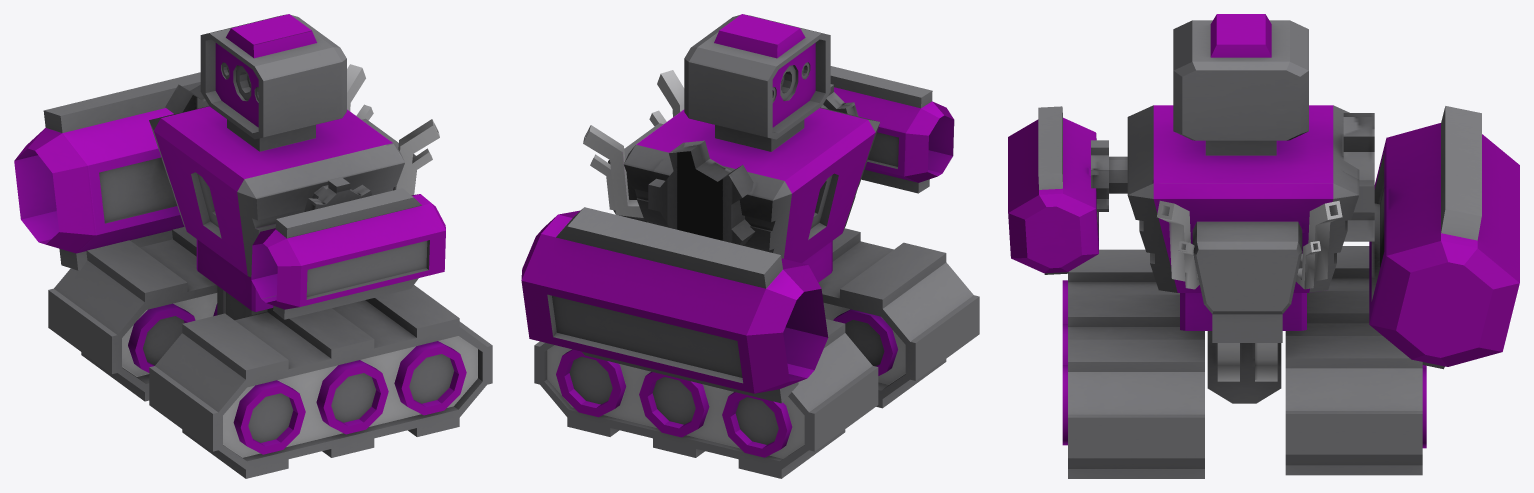
File: Enemy2_Die5.obj
3 renders of one model, left to right at view 1: azimuth 30°, elevation 25°; view 2: azimuth 150°, elevation 25°; view 3: azimuth 270°, elevation 25°, orthographic. The views are drawn at different scales.
Parts seen in each view (by area): view 1: Object006, Object013, Object011, Object014, Object012, Object010, Object008, Object009; view 2: Object006, Object011, Object013, Object012, Object014, Object009, Object010, Object008; view 3: Object006, Object011, Object013, Object012, Object010, Object014, Object009, Object008.
Boxes of the visible parts, x1,y1,x2,y2 form: Object006: (48,227,492,478); Object013: (149,106,404,320); Object011: (14,72,200,270); Object014: (251,188,445,319); Object012: (200,14,346,151); Object010: (347,64,439,195); Object008: (304,177,372,211); Object009: (165,84,208,113); Object006: (534,228,979,478); Object011: (521,207,828,403); Object013: (624,107,880,282); Object012: (684,14,830,151); Object014: (830,66,954,193); Object009: (648,140,755,245); Object010: (583,70,684,222); Object008: (821,84,858,116); Object006: (1062,246,1426,478); Object011: (1369,106,1519,369); Object013: (1127,105,1359,403); Object012: (1173,14,1308,155); Object010: (1157,200,1342,381); Object014: (1008,106,1098,274); Object009: (1343,113,1374,241); Object008: (1091,140,1127,211).
Bounding box in the file's own units: 87.45 × 108 × 128.
